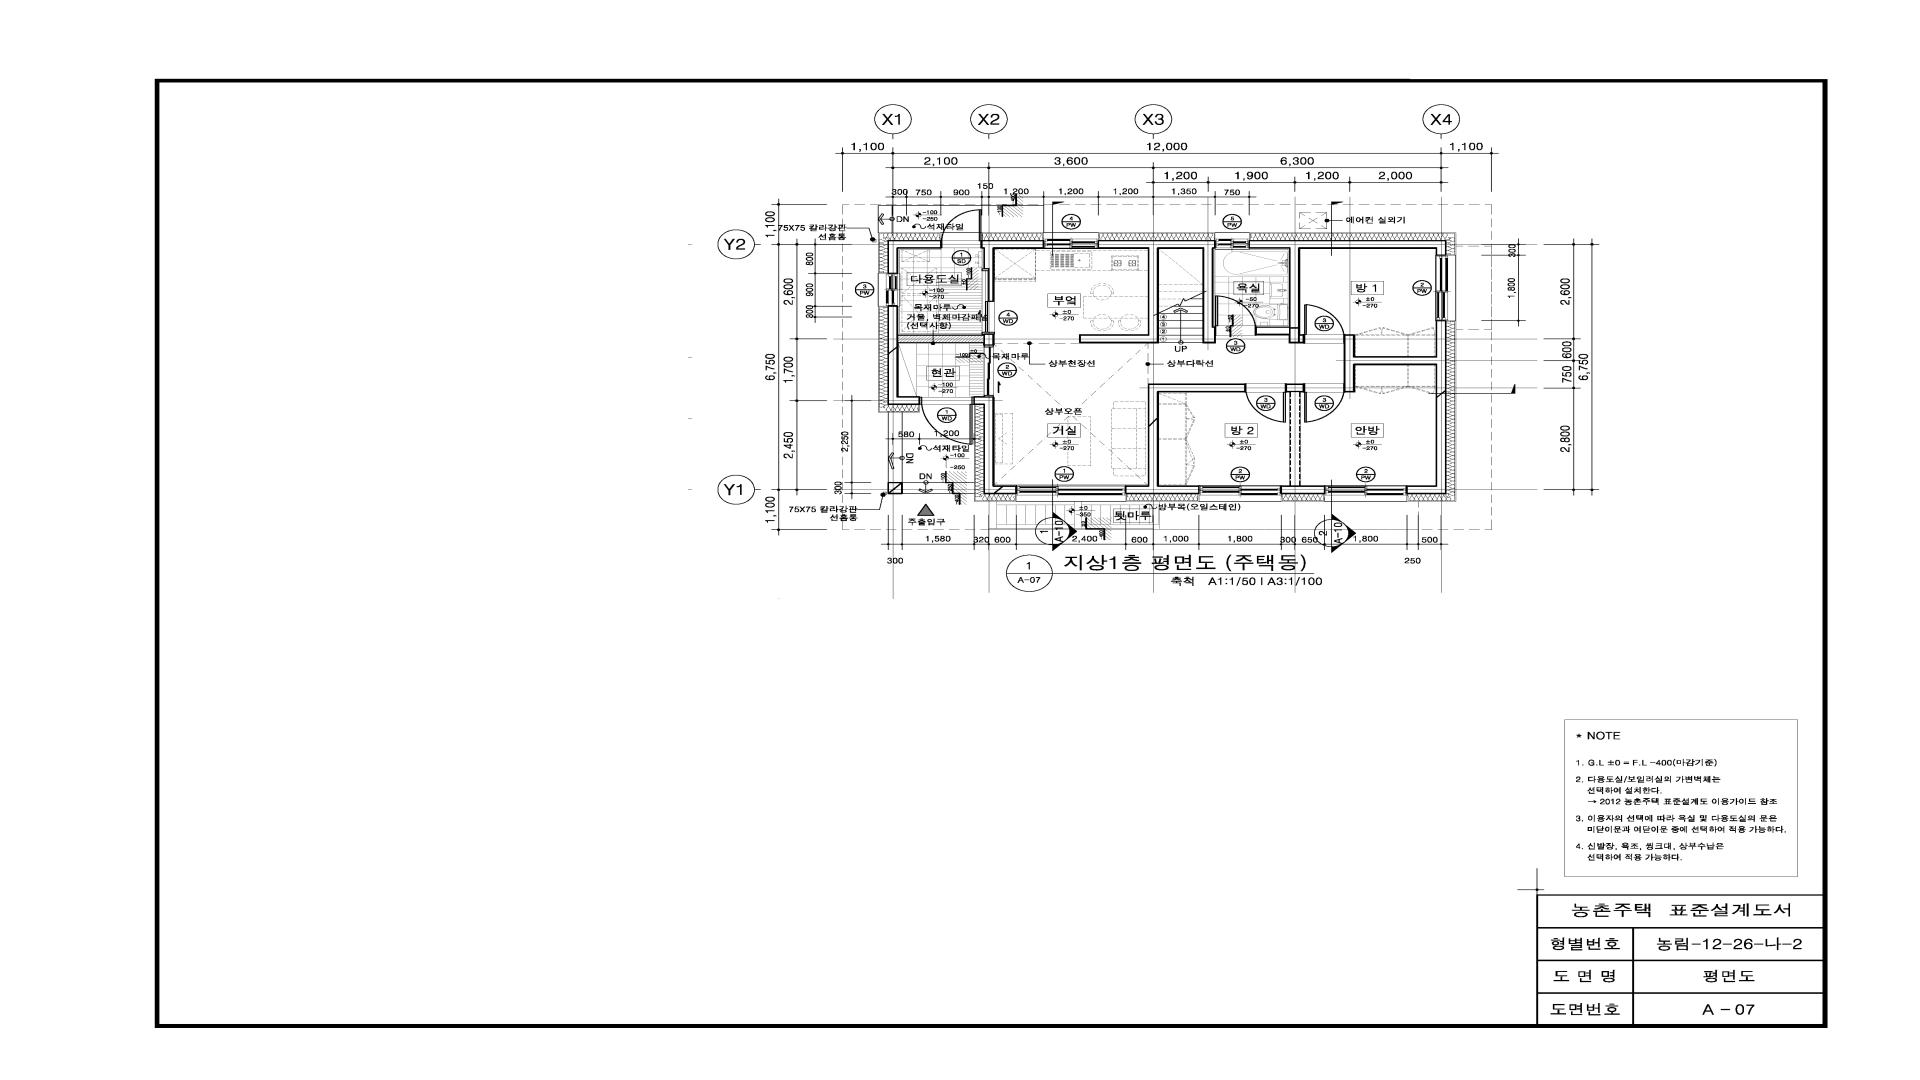door: (920, 397, 973, 445), (1215, 295, 1257, 336), (1245, 383, 1286, 423), (941, 209, 982, 249), (1303, 304, 1344, 344), (1304, 383, 1344, 423), (981, 268, 995, 333), (984, 345, 994, 396)
wall: (1249, 240, 1446, 343), (1344, 321, 1446, 494), (1079, 240, 1215, 344), (1126, 383, 1245, 494), (973, 396, 1016, 494), (982, 240, 1044, 302), (887, 345, 920, 405), (887, 240, 941, 274), (1286, 384, 1304, 485), (898, 333, 995, 345), (887, 306, 898, 354), (1281, 485, 1325, 494)
window: (1016, 485, 1126, 502), (1199, 485, 1281, 502), (1325, 485, 1407, 502), (1435, 255, 1456, 321), (1044, 232, 1099, 249), (878, 273, 900, 306), (1215, 232, 1249, 250)
